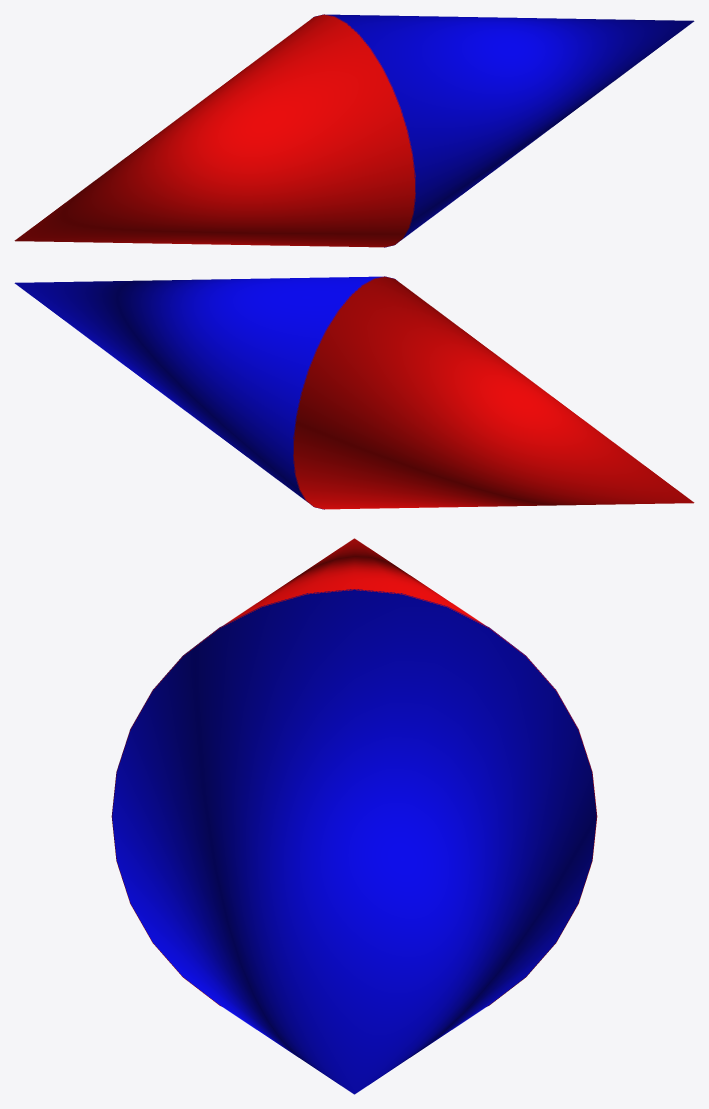
File: log_arrow.dae
The picture shows the model from 3 angles, top to bottom: view 1: azimuth 30°, elevation 25°; view 2: azimuth 150°, elevation 25°; view 3: azimuth 270°, elevation 25°; orthographic projection. The views are drawn at different scales.
Visible parts, largest first — view 1: Cone_000; view 2: Cone_000; view 3: Cone_000.
Part boxes in pixels (bbox=[...]): Cone_000: bbox=[14, 14, 694, 247]; Cone_000: bbox=[14, 276, 694, 509]; Cone_000: bbox=[111, 538, 597, 1094].
Bounding box in the file's own units: 7.97 × 2.46 × 2.45.
